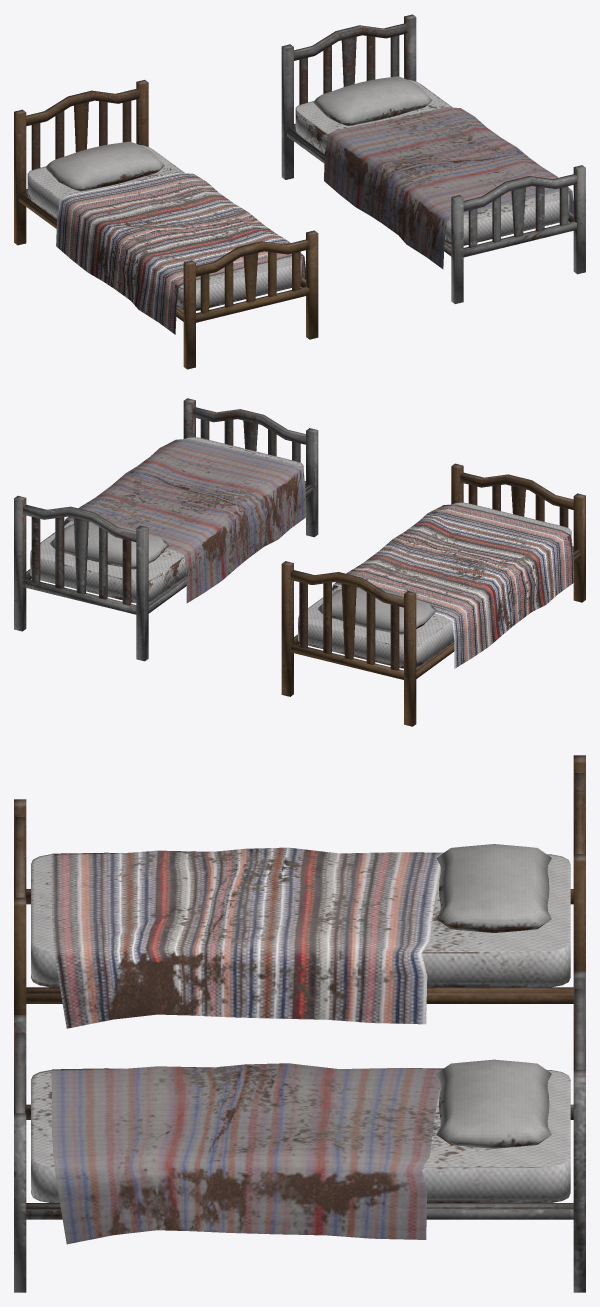
File: old_beds.glb
The picture shows the model from 3 angles, top to bottom: view 1: azimuth 30°, elevation 25°; view 2: azimuth 150°, elevation 25°; view 3: azimuth 270°, elevation 25°; orthographic projection. The views are drawn at different scales.
Visible parts, largest first — view 1: Object_2; view 2: Object_2; view 3: Object_2.
Part boxes in pixels (<box>): Object_2: <box>14,14,585,369</box>; Object_2: <box>14,398,585,726</box>; Object_2: <box>14,755,585,1292</box>.
Bounding box in the file's own units: 203 × 62.88 × 148.
1 material, 1 textured.
